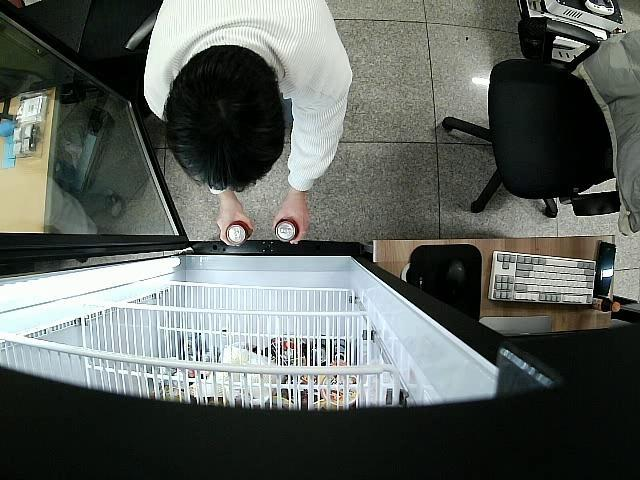11_cocaColaZero: (226, 220, 253, 244), (275, 218, 299, 243)
